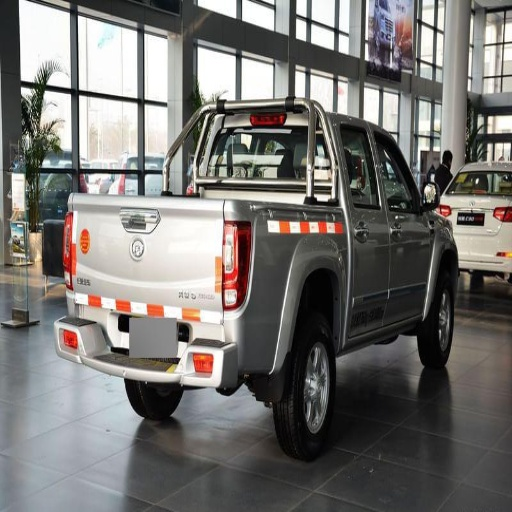back_bumper: (58, 317, 242, 380)
back_right_door: (337, 122, 391, 338)
trunk: (76, 188, 343, 372)
